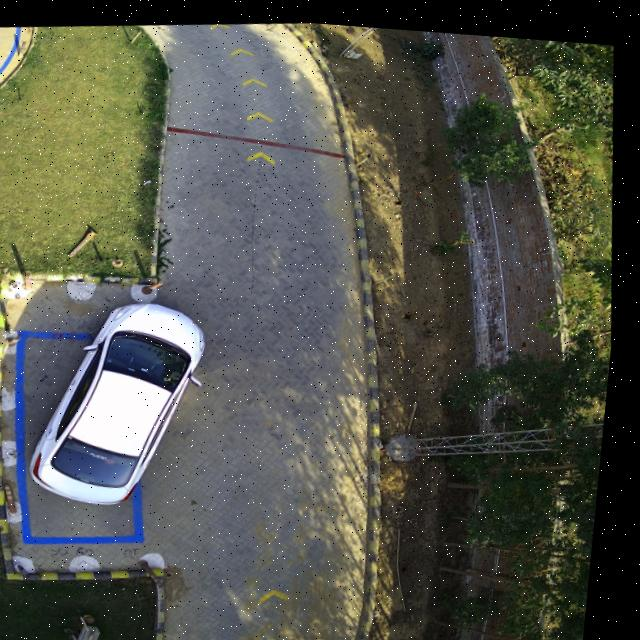car: (38, 300, 211, 502)
